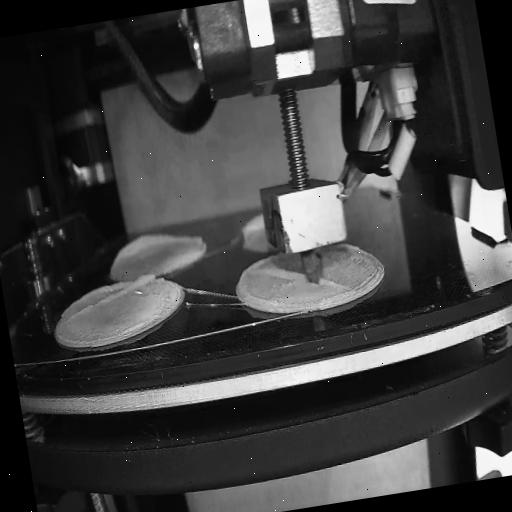over_extrusion: (62, 268, 160, 323), (106, 217, 206, 268), (250, 256, 304, 288), (238, 208, 266, 236), (320, 272, 350, 291)
